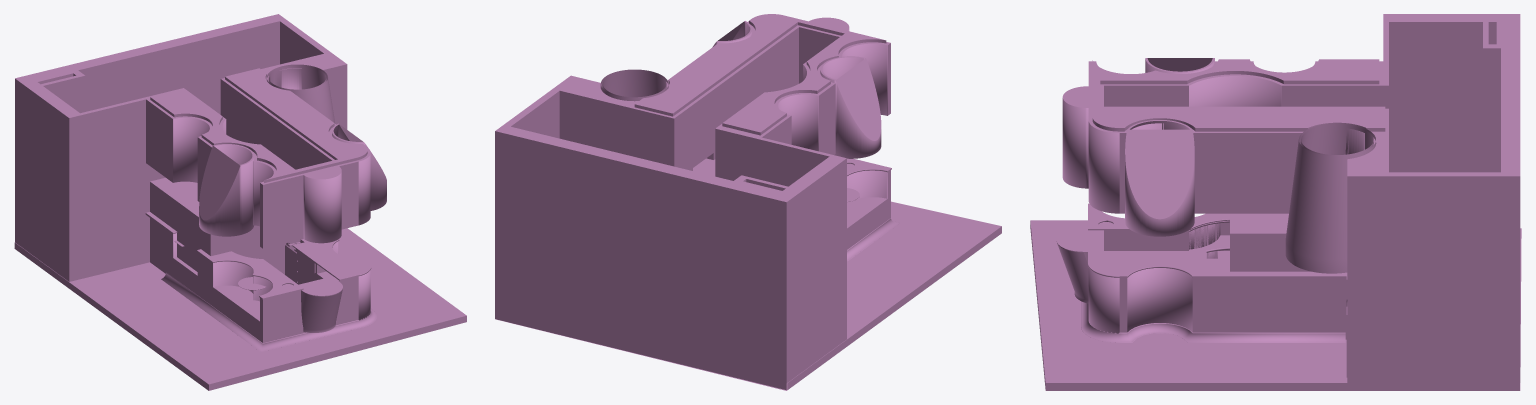
Rendered from asset.glb.
3 renders of one model, left to right at view 1: azimuth 30°, elevation 25°; view 2: azimuth 150°, elevation 25°; view 3: azimuth 270°, elevation 25°, orthographic. The views are drawn at different scales.
Parts seen in each view (by area): view 1: the final model.001, Cube.001; view 2: the final model.001; view 3: the final model.001, Cube.001.
Part boxes in pixels (<box>): the final model.001: <box>14,14,466,390</box>; Cube.001: <box>150,177,286,274</box>; the final model.001: <box>495,14,1001,390</box>; the final model.001: <box>1030,14,1521,390</box>; Cube.001: <box>1230,213,1310,271</box>.
Size of the model in its own units: 4.98 by 3.12 by 6.36.
